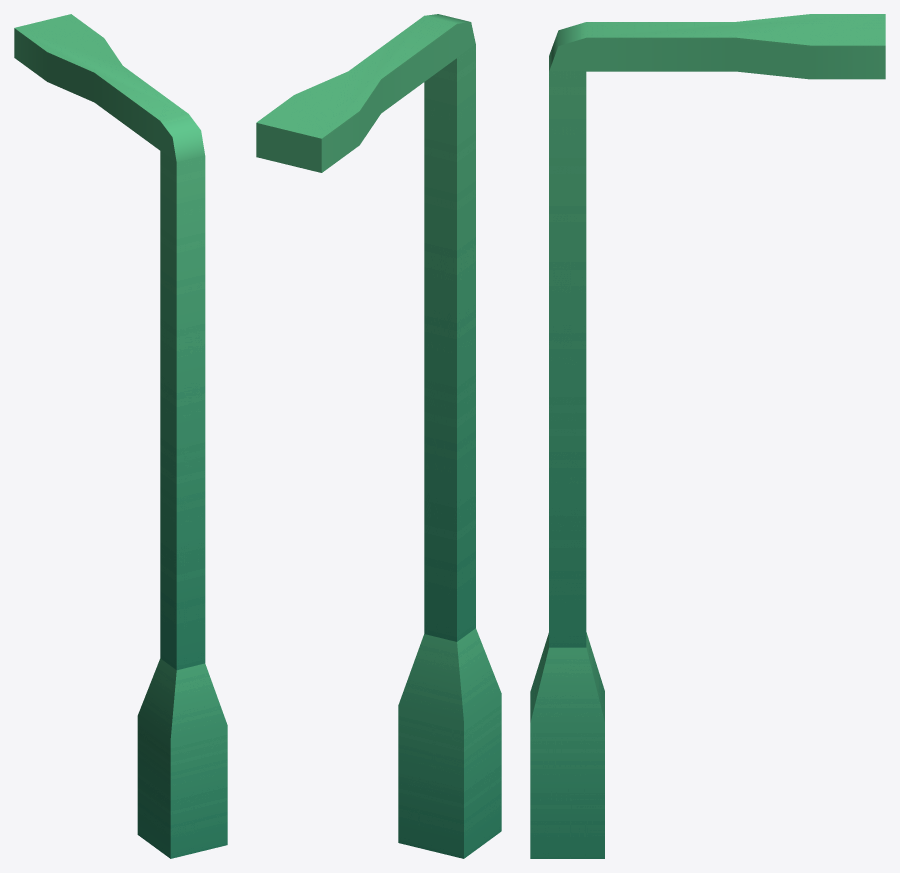
Rendered from light_square.glb.
The picture shows the model from 3 angles, left to right: view 1: azimuth 30°, elevation 25°; view 2: azimuth 150°, elevation 25°; view 3: azimuth 270°, elevation 25°; orthographic projection. The views are drawn at different scales.
Parts seen in each view (by area): view 1: light-square; view 2: light-square; view 3: light-square.
Part boxes in pixels (x1,y1,x2,y2): light-square: (14,14,227,858); light-square: (256,14,501,858); light-square: (530,14,885,858).
Bounding box in the file's own units: 0.05 × 0.6 × 0.2375.
1 material, 1 textured.
